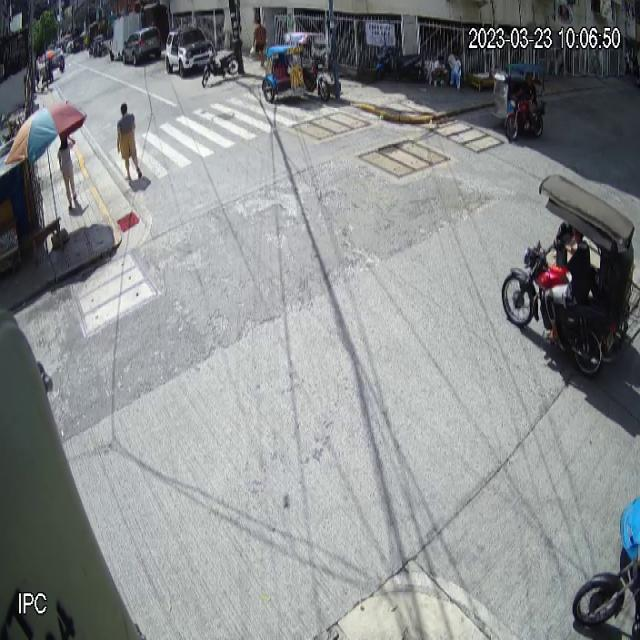Tricycle: (502, 173, 640, 380), (262, 30, 331, 104), (490, 63, 548, 142)
